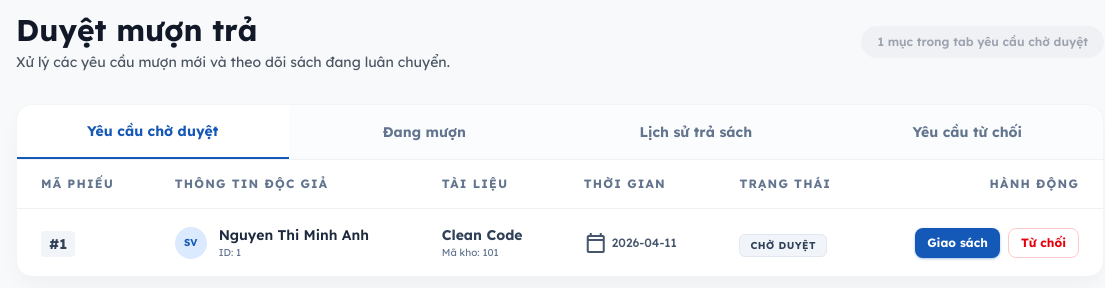
Test case: AdminRequests › updates a pending request to borrowed after approval
The width and height of the screenshot is (1105, 288).
Expected: the text "Chờ duyệt" is shown, left=739, top=234, right=827, bottom=256
Step 1. Click the button "Giao sách" → click(958, 242), box left=915, top=228, right=1000, bottom=258
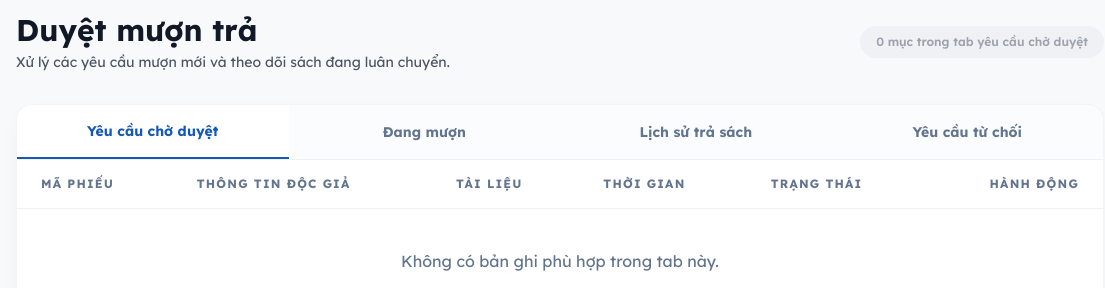
Now the button "Giao sách" is gone
